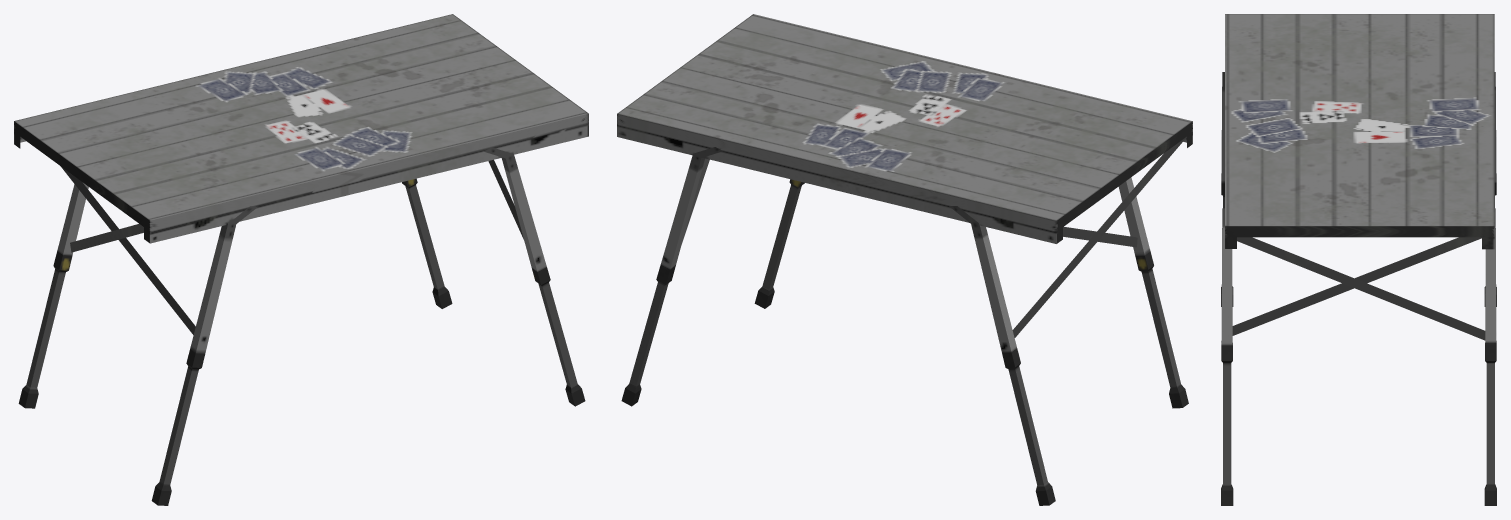
File: SM_Table.fbx
3 views of the same model, side by side, from view 1: azimuth 30°, elevation 25°; view 2: azimuth 150°, elevation 25°; view 3: azimuth 270°, elevation 25° (orthographic).
Parts seen in each view (by area): view 1: SM_Table; view 2: SM_Table; view 3: SM_Table.
Boxes of the visible parts, bbox=[...] form: SM_Table: bbox=[14, 14, 588, 505]; SM_Table: bbox=[617, 14, 1192, 505]; SM_Table: bbox=[1221, 14, 1496, 505].
Size of the model in its own units: 36.53 by 22.89 by 20.06.
1 material, 1 textured.
